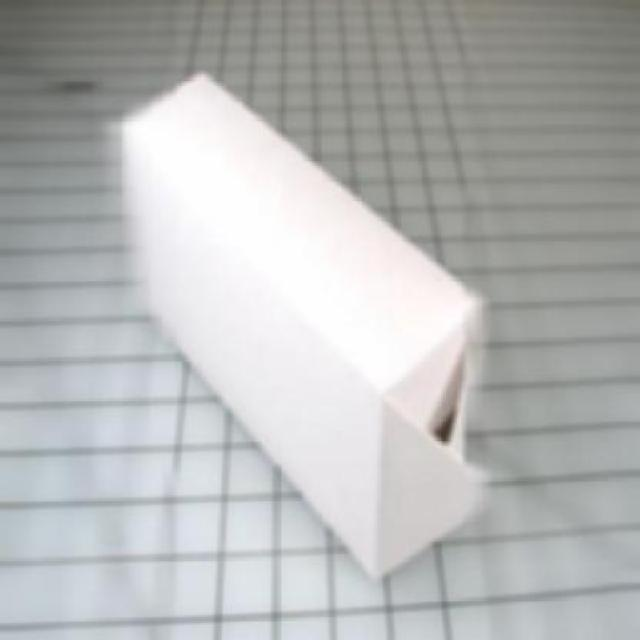box: (102, 68, 536, 561)
